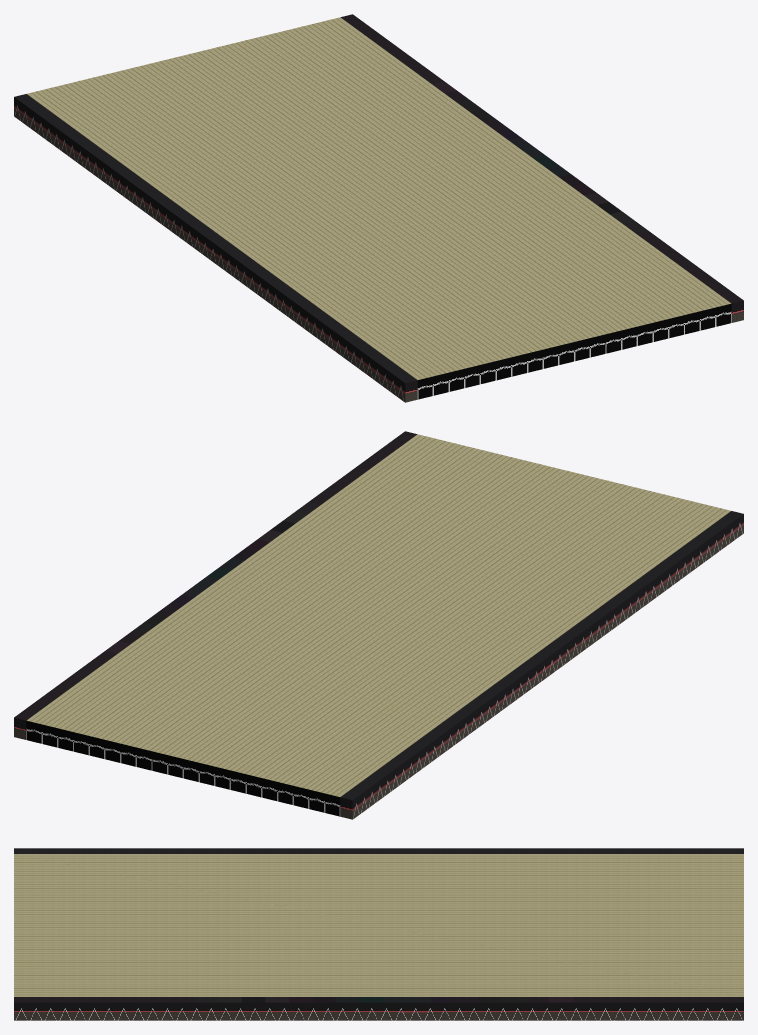
Rendered from tatami.obj.
3 renders of one model, top to bottom at view 1: azimuth 30°, elevation 25°; view 2: azimuth 150°, elevation 25°; view 3: azimuth 270°, elevation 25°, orthographic. The views are drawn at different scales.
Parts seen in each view (by area): view 1: tatami_Cube.001, sides_Cube, transparent_Cube.002; view 2: tatami_Cube.001, sides_Cube, transparent_Cube.002; view 3: tatami_Cube.001, sides_Cube.
Boxes of the visible parts, <box> form: tatami_Cube.001: <box>27,17,730,379</box>; sides_Cube: <box>14,14,743,402</box>; transparent_Cube.002: <box>417,303,731,399</box>; tatami_Cube.001: <box>27,434,730,796</box>; sides_Cube: <box>14,431,743,819</box>; transparent_Cube.002: <box>26,720,340,816</box>; tatami_Cube.001: <box>14,854,743,996</box>; sides_Cube: <box>14,848,743,1020</box>.
Size of the model in its own units: 100 by 5.5 by 200.
